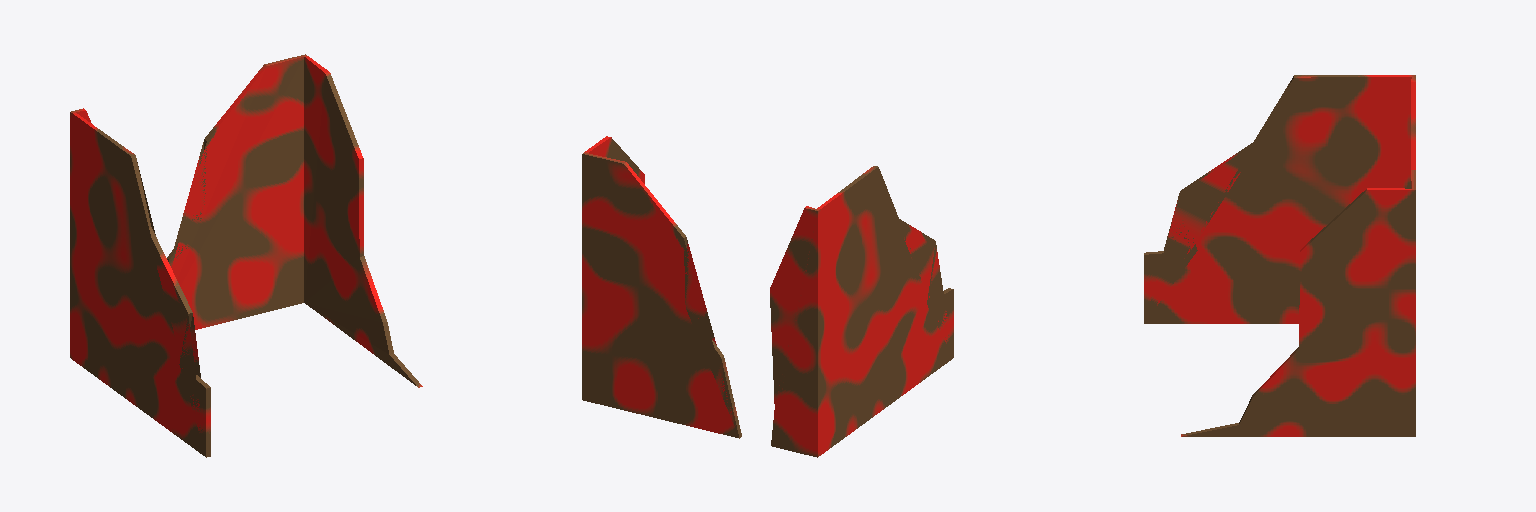
3 views of the same model, side by side, from view 1: azimuth 30°, elevation 25°; view 2: azimuth 150°, elevation 25°; view 3: azimuth 270°, elevation 25° (orthographic).
Parts seen in each view (by area): view 1: Cube; view 2: Cube; view 3: Cube.
Boxes of the visible parts, x1=… form: Cube: x1=70, y1=54, x2=422, y2=457; Cube: x1=582, y1=136, x2=953, y2=457; Cube: x1=1144, y1=75, x2=1415, y2=436.
Size of the model in its own units: 10.66 by 10.66 by 10.66.
1 materials, 1 textured.